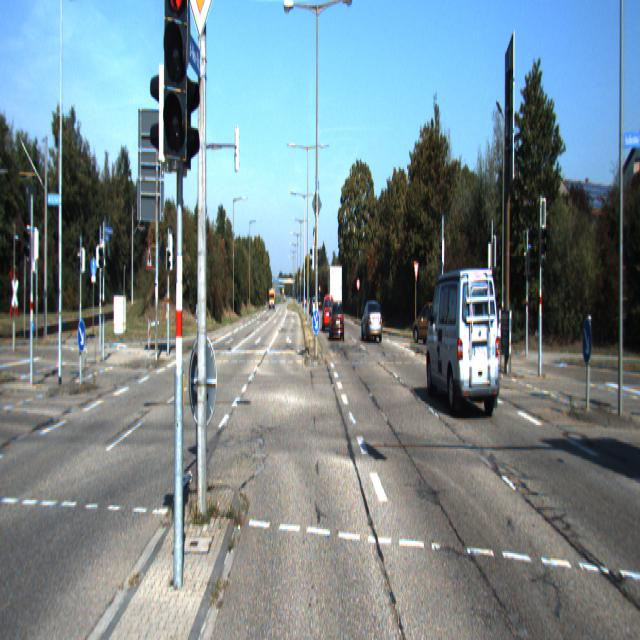Car: (425, 258, 502, 421), (412, 298, 446, 344), (361, 299, 382, 344), (328, 263, 342, 317), (329, 300, 345, 342), (322, 293, 335, 333)
